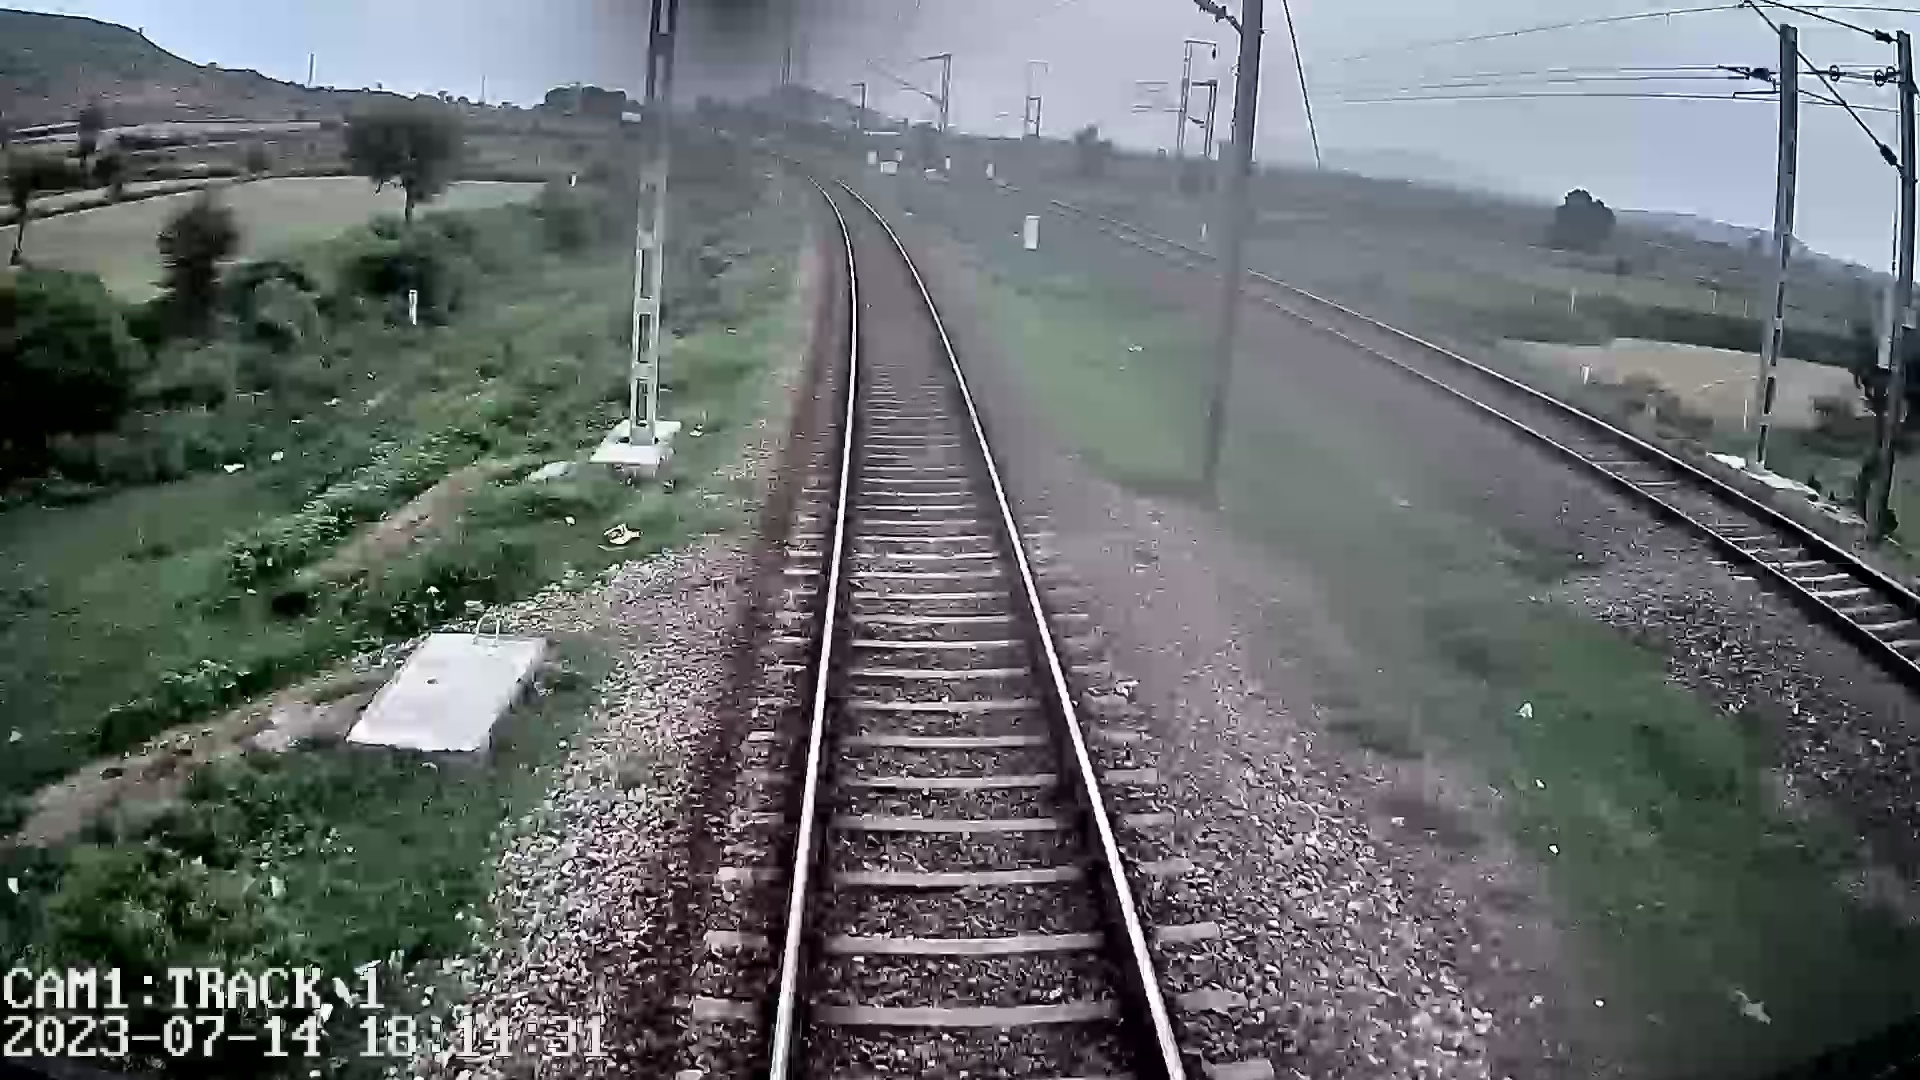track1: (779, 185, 1166, 1050)
track2: (1167, 256, 1916, 651)
